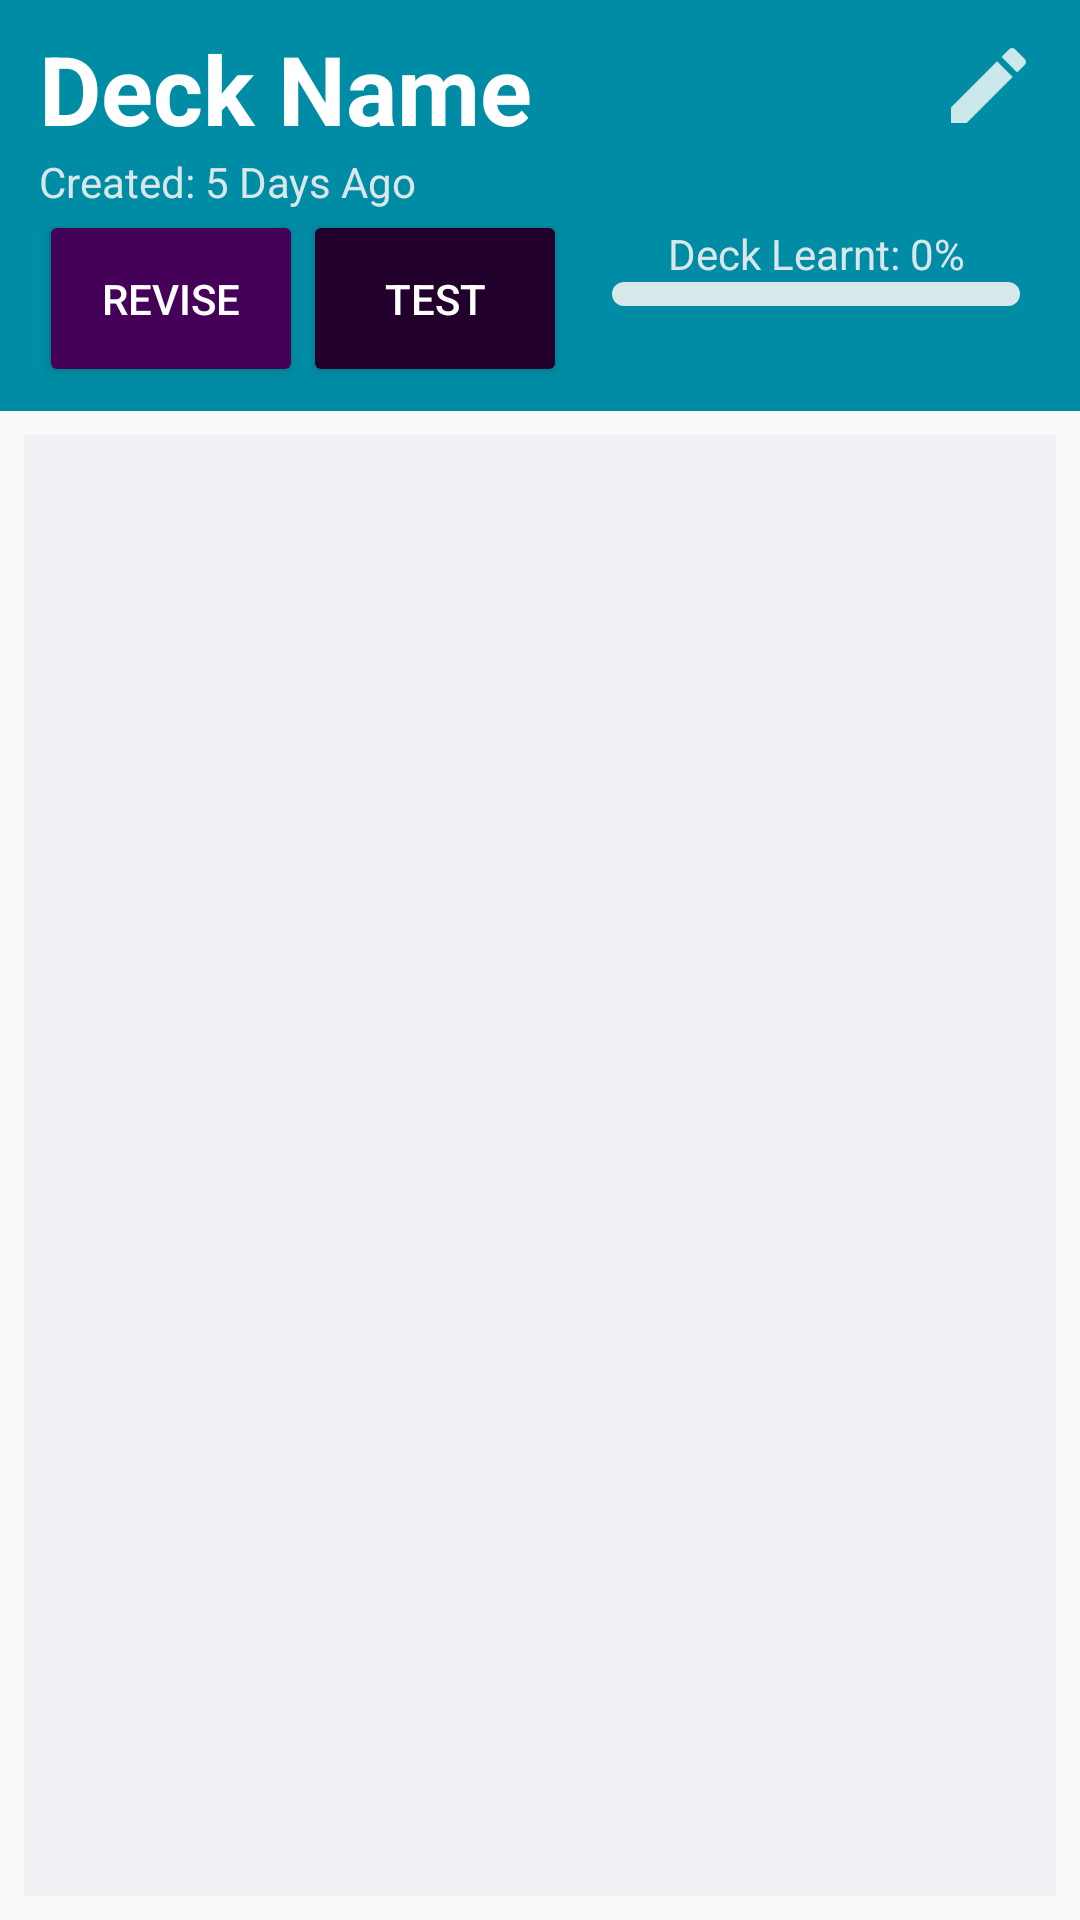

Where icons sit on this 1080*1920 app screen, as (x1, y1, x2, y2):
edit name: (951, 48, 1026, 123)
